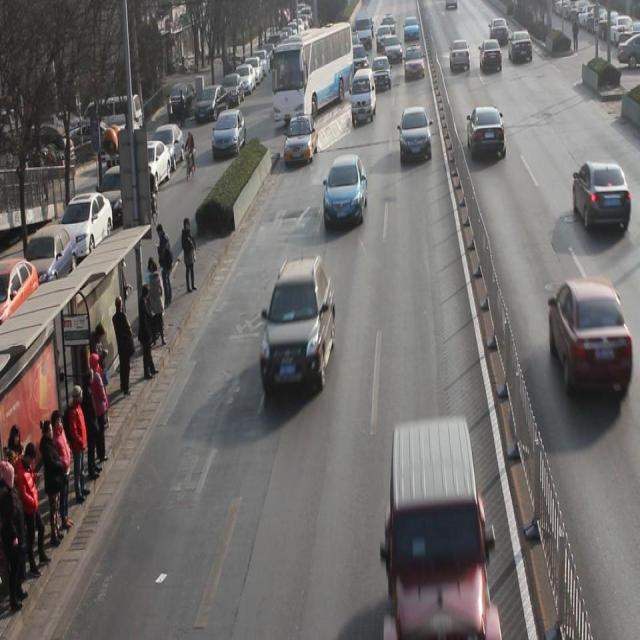car: (382, 418, 502, 640), (551, 273, 640, 397), (261, 257, 337, 394), (574, 158, 632, 234), (324, 154, 369, 229), (466, 105, 506, 160), (399, 106, 434, 164), (285, 115, 319, 167), (348, 43, 370, 84), (480, 37, 502, 77), (511, 28, 534, 66), (449, 37, 472, 72), (404, 44, 426, 80), (372, 56, 393, 93), (489, 18, 509, 47)
truck: (352, 66, 377, 127)
van: (272, 23, 354, 122)
